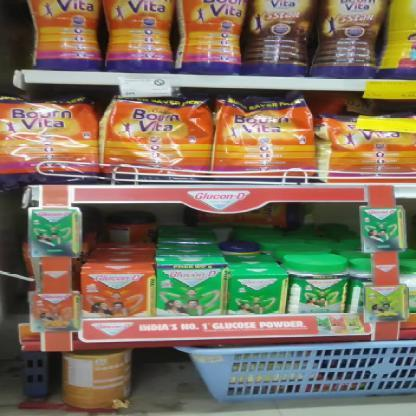Glucon D Regular 1-KG: (152, 264, 230, 318), (224, 276, 286, 318)
Glucon D Regular 2-KG: (290, 257, 346, 314)
Glucon D Tangy orange 1-KG: (84, 266, 157, 320)
